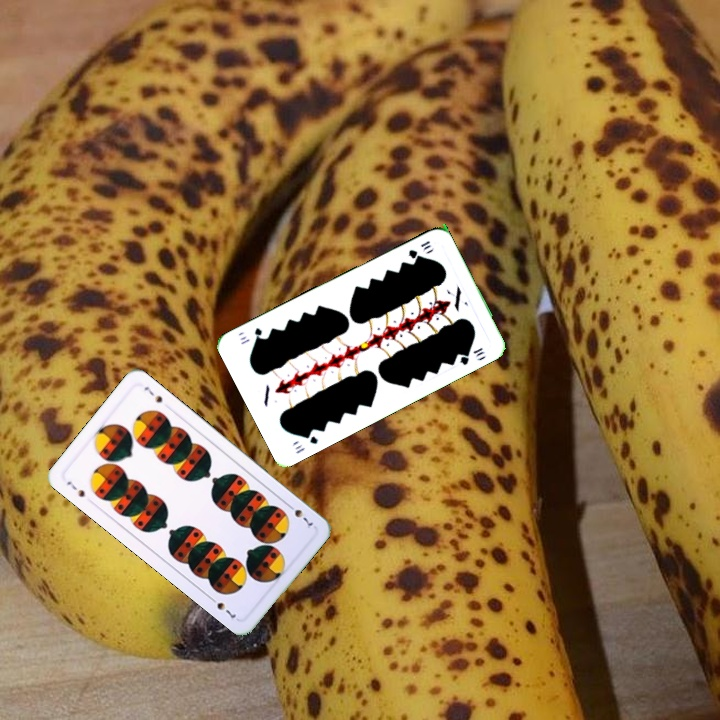G10: (290, 428, 321, 456), (404, 236, 437, 261)
S7: (283, 499, 316, 531), (62, 477, 88, 500)
